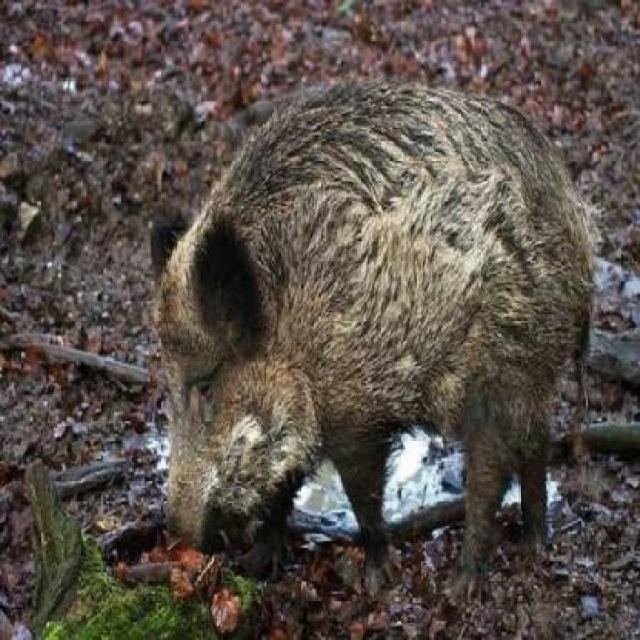pig: (139, 54, 606, 539)
